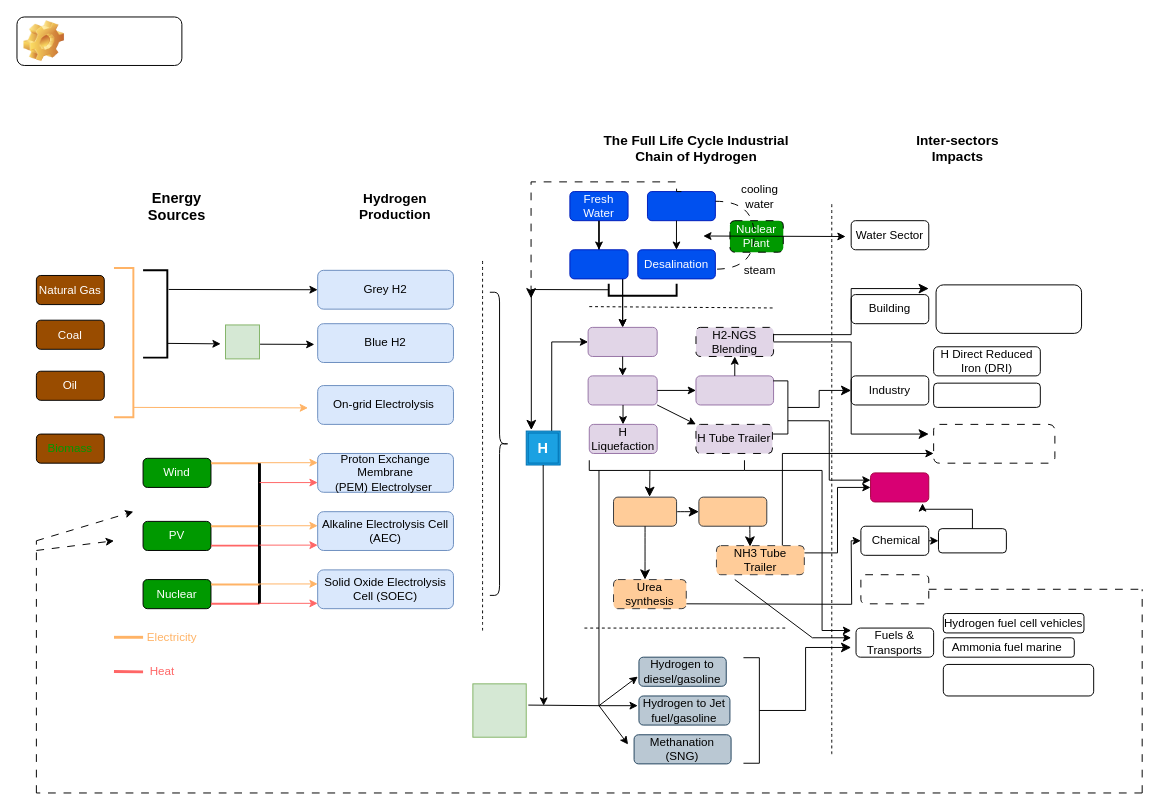
This 1160x811 diagram has some shape labels left out. The shapes that lost their labels are listed below. From the top down, each one's centre as x and y in pixels, then its label:
At (x=99, y=40): "Designed by Zhaojie".
At (x=681, y=206): "Sea Water".
At (x=598, y=264): "Water Treatment".
At (x=1008, y=308): "Boilers, Resistive heaters, Heat pumps, Cooking, Cooling, Other uses".
At (x=242, y=341): "CCUS".
At (x=622, y=341): "H Compress".
At (x=622, y=390): "H Storage".
At (x=734, y=390): "H Pipeline".
At (x=986, y=394): "DRI-EAF".
At (x=994, y=443): "H2, Nh3, and Blending NGS for Heating".
At (x=899, y=487): "Export".
At (x=645, y=511): "Ammonia synthesis".
At (x=732, y=511): "NH3 Liquefaction".
At (x=972, y=540): "Synthetic N Fertiliser".
At (x=894, y=589): "Land".
At (x=1018, y=679): "H synthetic fuels for road, marine and aviation".
At (x=499, y=710): "CCUS DAC Bioenergy +CCUS".
